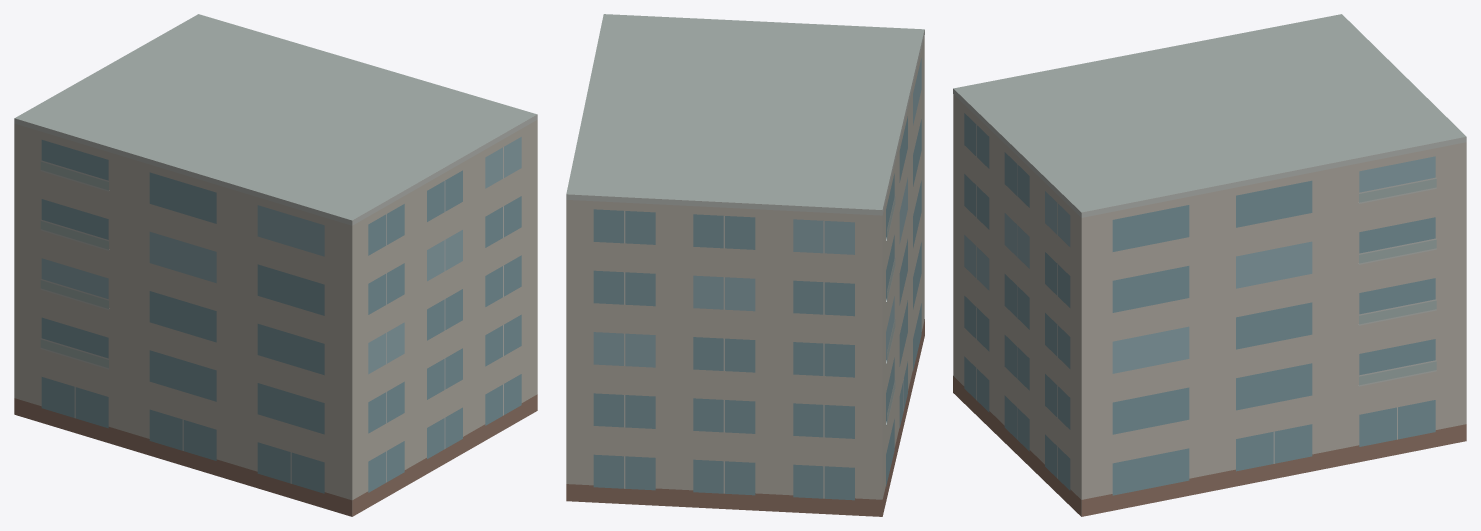
The model's file is survey-upis-32598924.glb.
3 views of the same model, side by side, from view 1: azimuth 30°, elevation 25°; view 2: azimuth 150°, elevation 25°; view 3: azimuth 270°, elevation 25° (orthographic). The views are drawn at different scales.
Parts seen in each view (by area): view 1: survey-upis-32598924.tmp; view 2: survey-upis-32598924.tmp; view 3: survey-upis-32598924.tmp.
Part boxes in pixels (<box>): survey-upis-32598924.tmp: <box>14,14,537,516</box>; survey-upis-32598924.tmp: <box>566,14,924,516</box>; survey-upis-32598924.tmp: <box>953,14,1466,516</box>.
Bounding box in the file's own units: 19.18 × 13.7 × 20.96.
